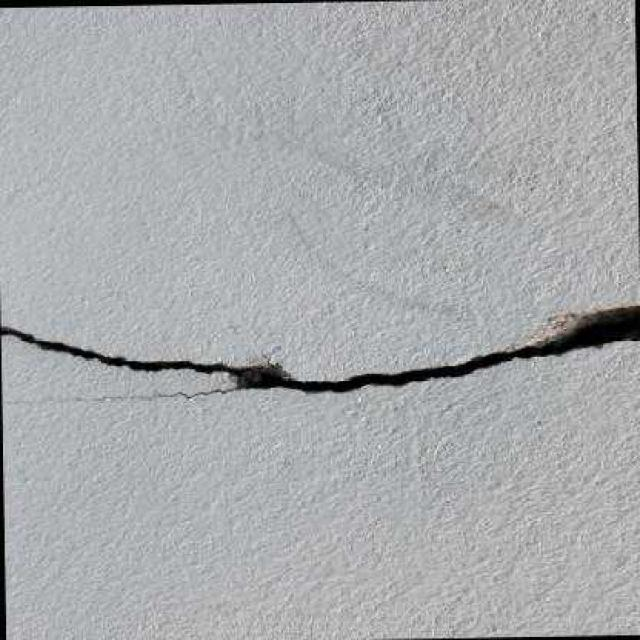D00: (0, 300, 640, 393)
